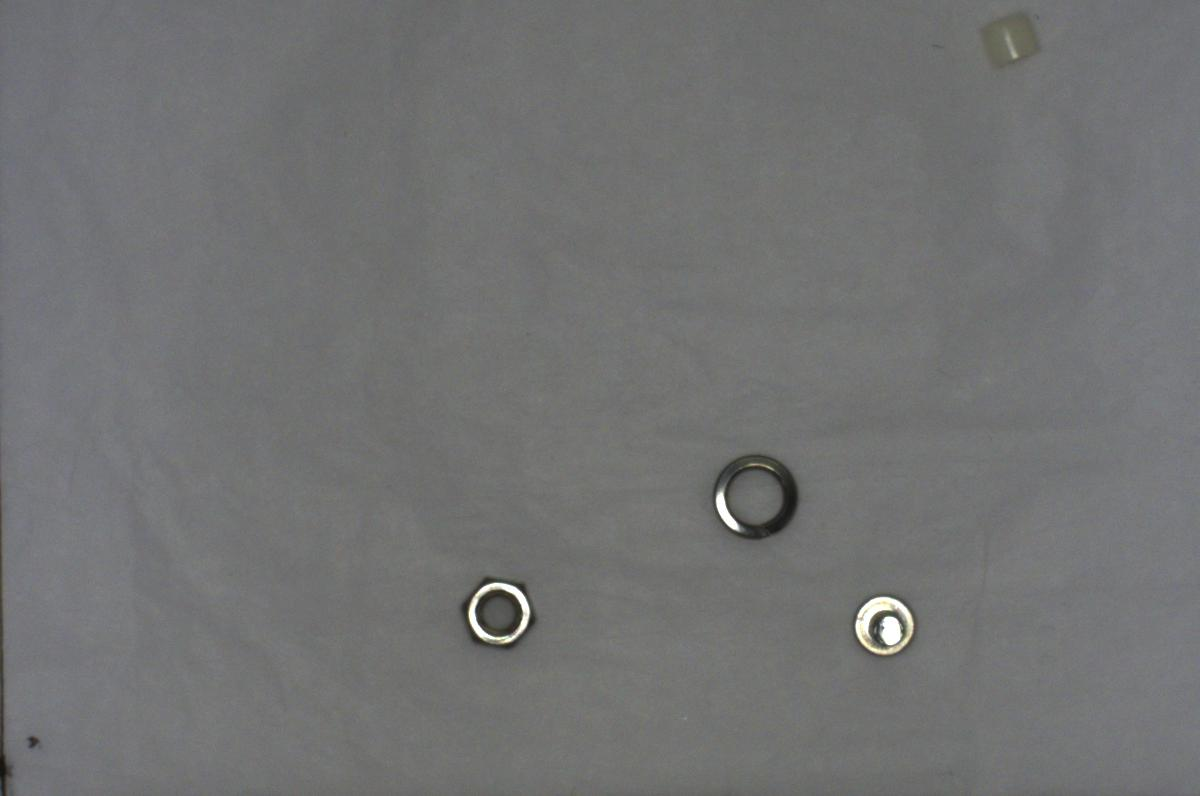Hexagon nut: (446, 561, 539, 654)
Plastic cushion pillar: (977, 9, 1047, 82)
Round head screw: (841, 589, 924, 663)
Spring washer: (705, 446, 800, 545)
